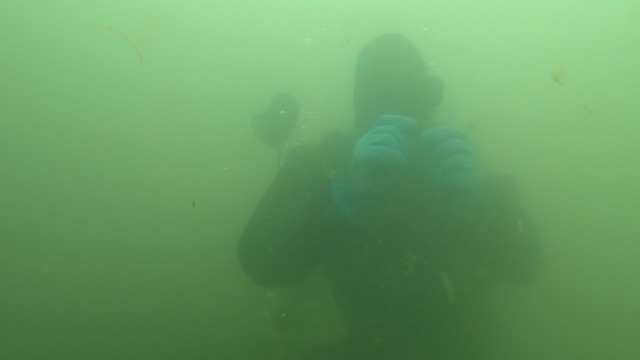Diver: (201, 9, 563, 351)
Hand: (318, 103, 414, 221), (424, 119, 492, 193)
Head: (336, 30, 466, 163)
